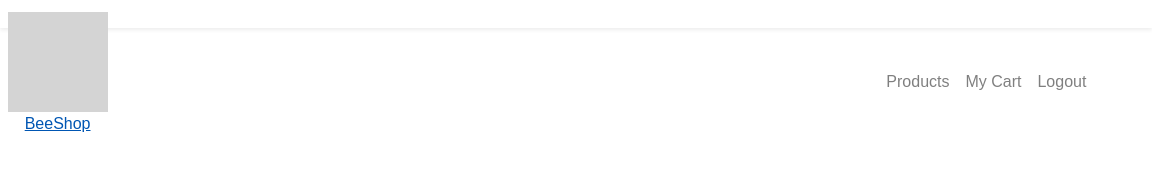
TopBar › Interactions › displays the login and register links when user clicks logout
Step 1. Click the link "Logout" → click(1062, 82), box [1038,73,1086,90]
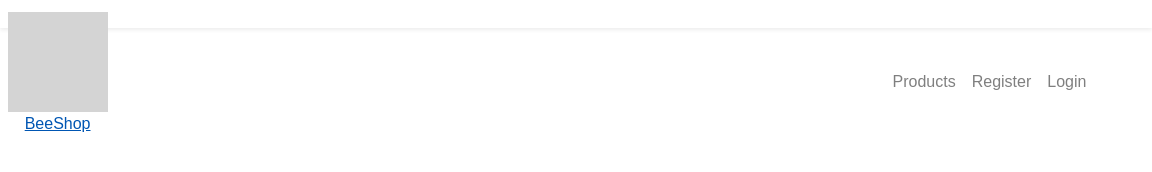
Expected: the link "Login" is shown, [1047,73,1086,90]
